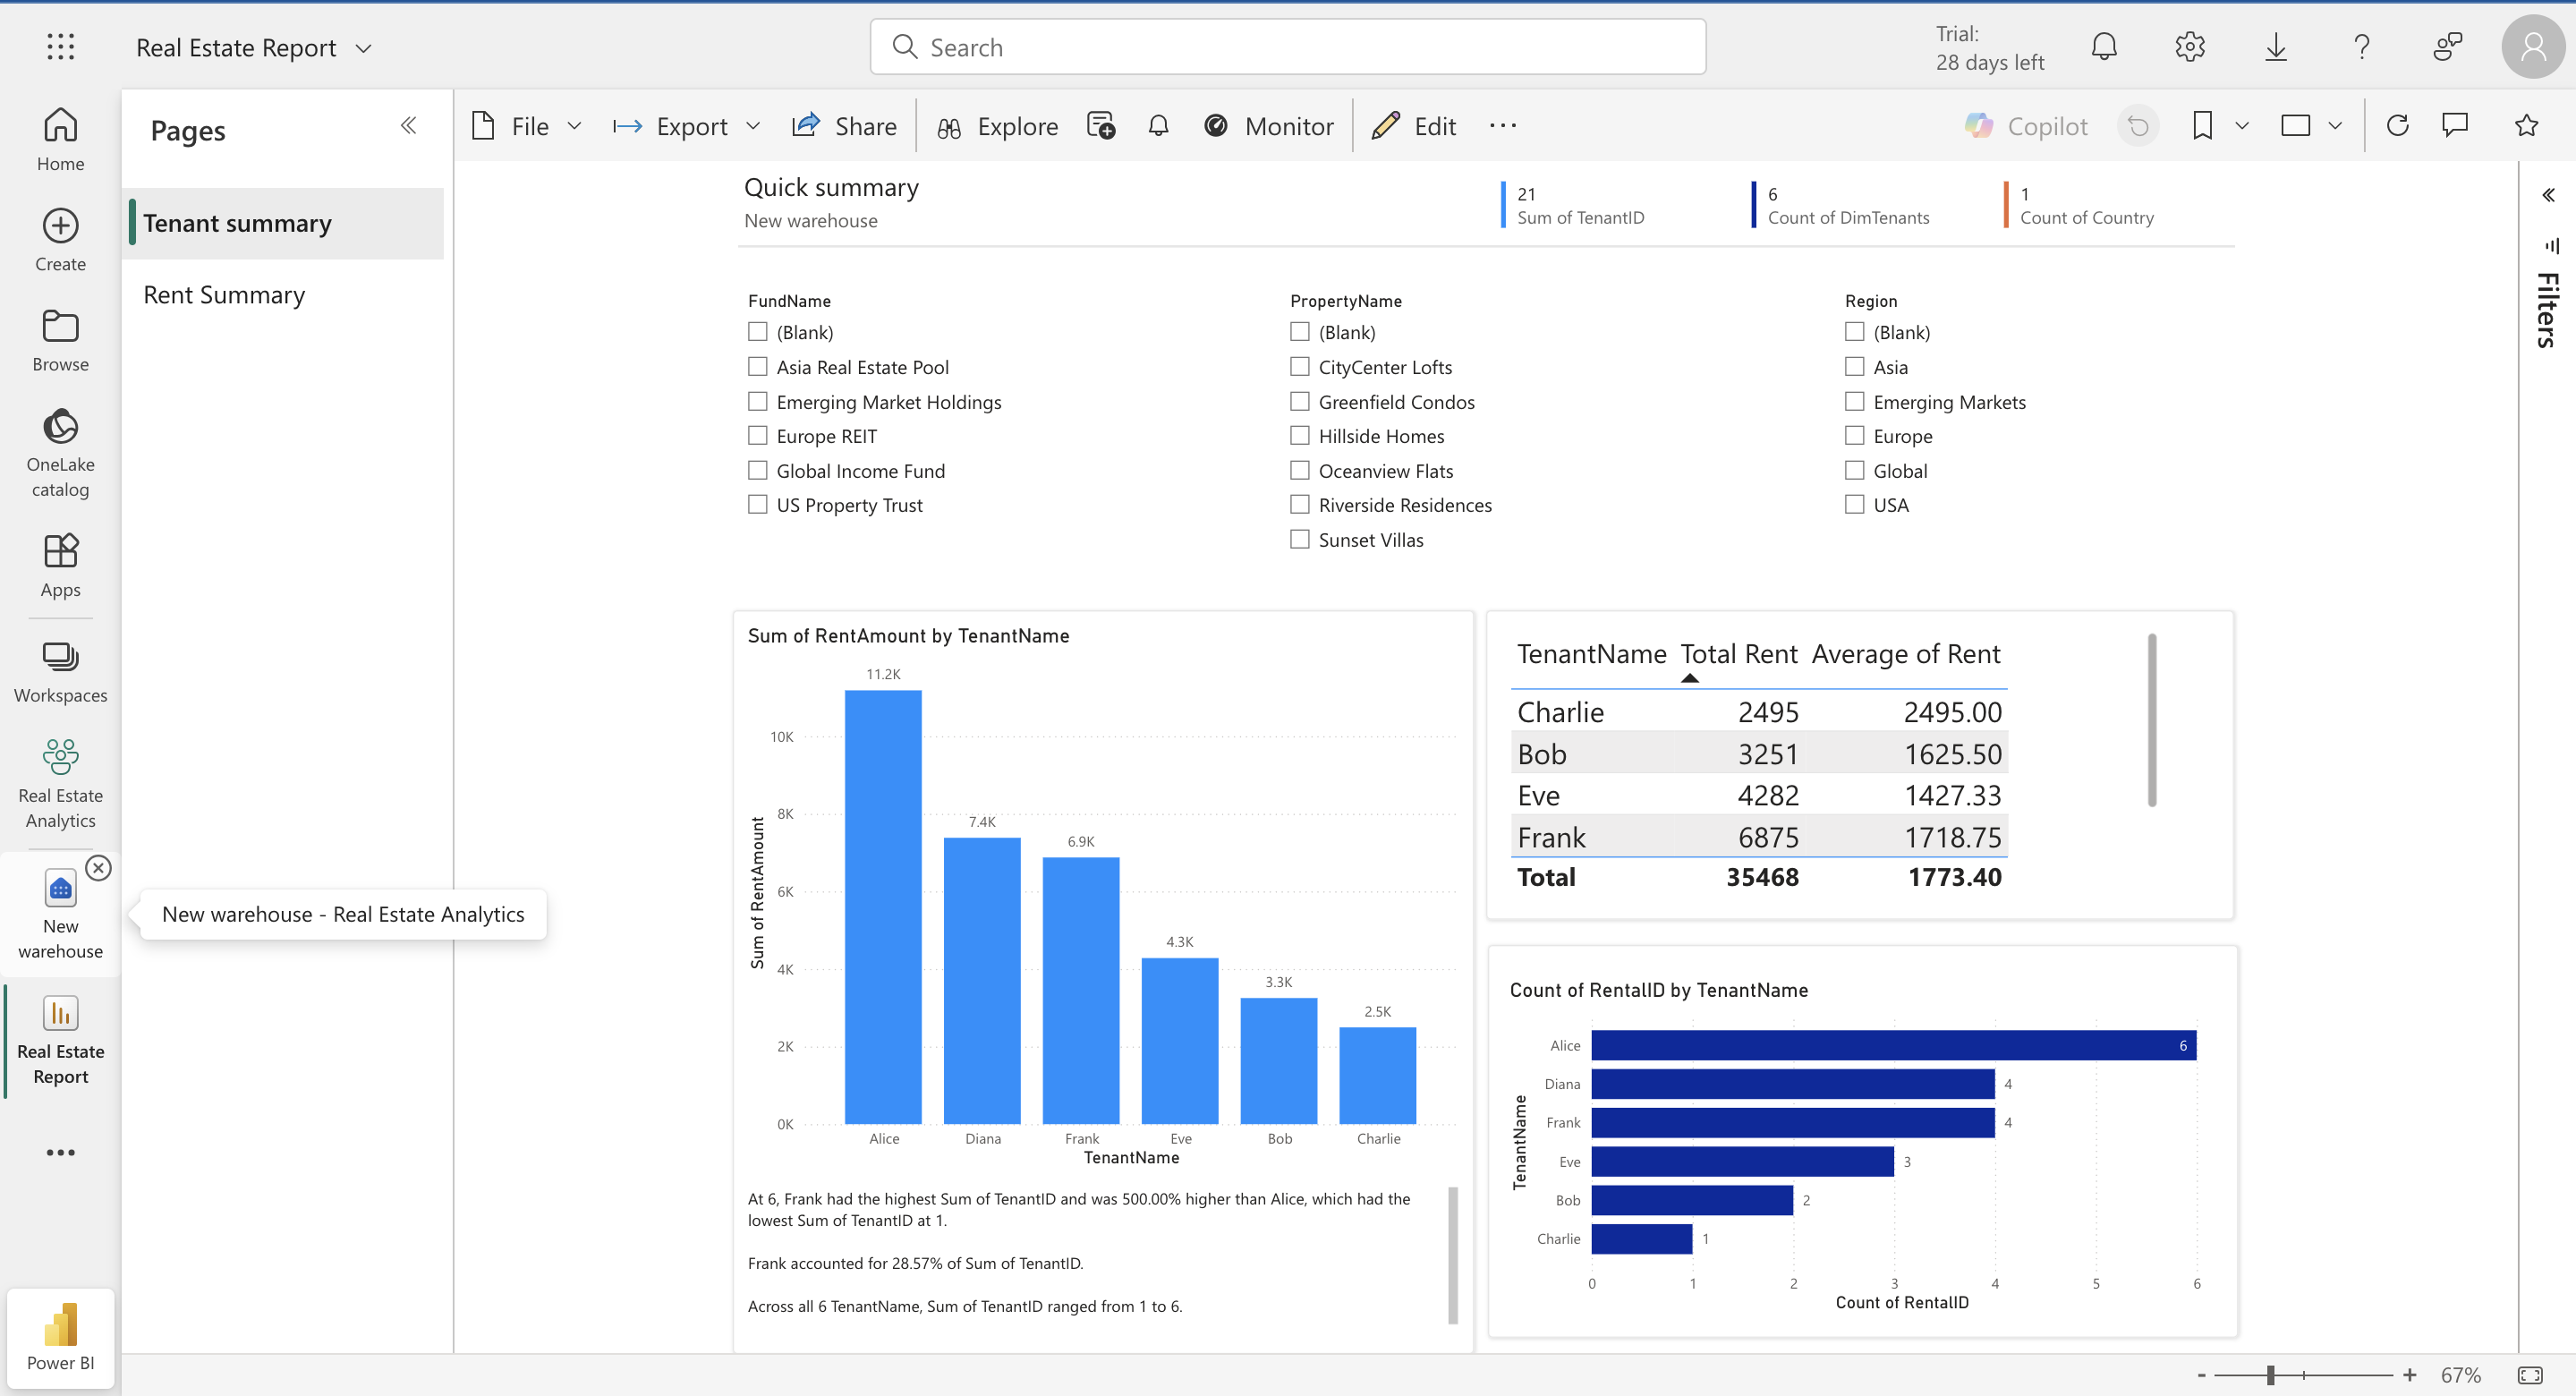

Layout of this report page (visuals, bound fields, positions):
{"tool":"powerbi","page":{"name":"Tenant summary","canvas":[1280,1000],"ordinal":0},"visuals":[{"type":"shape","box":[12,58,1256,26],"z":0},{"type":"shape","box":[7.8,376.2,621.8,623.8],"z":1000},{"type":"shape","box":[639.4,376.2,627.7,259.3],"z":2000},{"type":"shape","box":[641.3,656.9,629.6,329.4],"z":3000},{"type":"tableEx","fields":{"Values":["DimTenants.TenantName","FactRentals.RentAmount","FactRentals.RentAmount"]},"box":[655,389.9,553.6,230],"z":4000},{"type":"clusteredBarChart","fields":{"Category":["DimTenants.TenantName"],"Y":["FactRentals.RentalID"]},"box":[655,688.1,604.3,282.7],"z":5000},{"type":"textbox","box":[15.6,855.8,606.2,130.6],"z":6000},{"type":"columnChart","fields":{"Y":["FactRentals.RentAmount"],"Category":["DimTenants.TenantName"]},"box":[15.6,389.9,606.2,458.1],"z":7000},{"type":"multiRowCard","fields":{"Values":["DimTenants.Country"]},"box":[1069,12,199,50],"z":8000},{"type":"multiRowCard","fields":{"Values":["DimTenants"]},"box":[858,12,199,50],"z":9000},{"type":"multiRowCard","fields":{"Values":["DimTenants.TenantID"]},"box":[647,12,199,50],"z":10000},{"type":"textbox","box":[12,33,306,32],"z":11000},{"type":"textbox","box":[12,2,306,39],"z":12000},{"type":"slicer","fields":{"Values":["DimFunds 2.Region"]},"box":[927.9,105.3,331.4,237.8],"z":13000},{"type":"slicer","fields":{"Values":["DimProperties.PropertyName"]},"box":[462,105.3,354.8,237.8],"z":14000},{"type":"slicer","fields":{"Values":["DimFunds 2.FundName"]},"box":[7.8,105.3,380.1,237.8],"z":15000}]}

Visuals, with their boxes on the page's 1280x1000 design canvas (x1, y1, x2, y2). These are canvas units, not pixel positions in the 2576x1396 screenshot, which may show the page scaled, cropped or inside an application window:
shape: l=12, t=58, r=1268, b=84
shape: l=8, t=376, r=630, b=1000
shape: l=639, t=376, r=1267, b=636
shape: l=641, t=657, r=1271, b=986
tableEx - DimTenants.TenantName x FactRentals.RentAmount: l=655, t=390, r=1209, b=620
clusteredBarChart - DimTenants.TenantName x FactRentals.RentalID: l=655, t=688, r=1259, b=971
textbox: l=16, t=856, r=622, b=986
columnChart - FactRentals.RentAmount x DimTenants.TenantName: l=16, t=390, r=622, b=848
multiRowCard - DimTenants.Country: l=1069, t=12, r=1268, b=62
multiRowCard - DimTenants: l=858, t=12, r=1057, b=62
multiRowCard - DimTenants.TenantID: l=647, t=12, r=846, b=62
textbox: l=12, t=33, r=318, b=65
textbox: l=12, t=2, r=318, b=41
slicer - DimFunds 2.Region: l=928, t=105, r=1259, b=343
slicer - DimProperties.PropertyName: l=462, t=105, r=817, b=343
slicer - DimFunds 2.FundName: l=8, t=105, r=388, b=343
